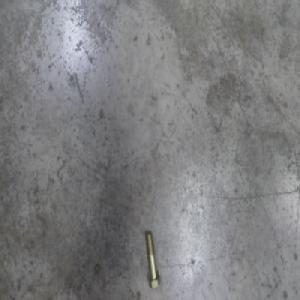Bolt: (144, 231, 161, 288)
